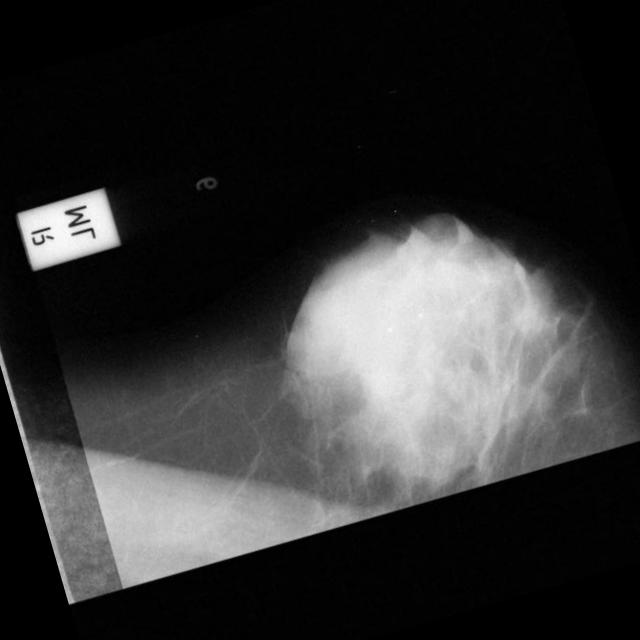CIRC: (404, 222, 510, 328)
